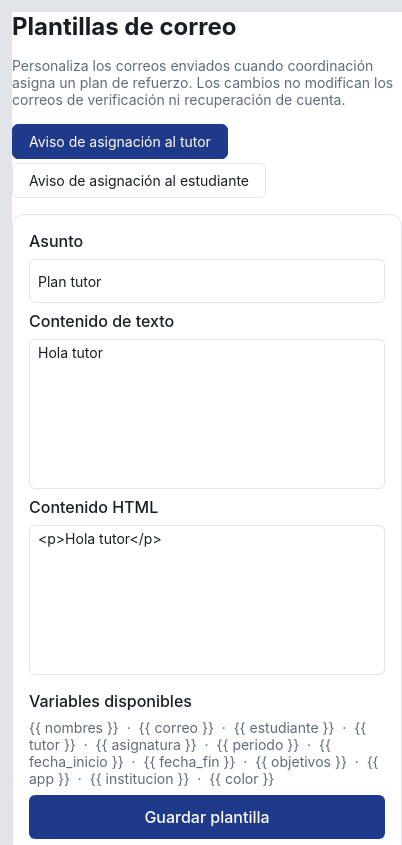
Test case: permite cambiar de plantilla y editar texto y HTML
The width and height of the screenshot is (402, 845).
expect the field showing "Plan tutor" is shown: met, box [29,259,385,303]
Click the button "Aviso de asignación al estudiante".
click(139, 180)  # box [12,163,266,198]
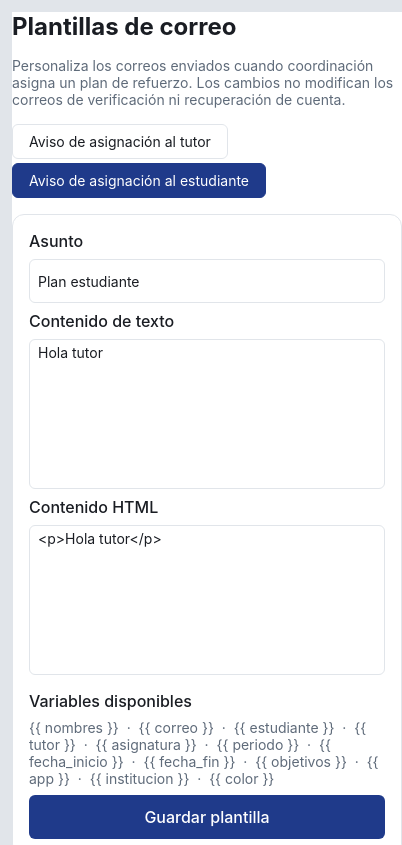
expect the field showing "Plan estudiante" is shown: met, box [29,259,385,303]
Replace the text in the text box named "Contenido de texto del correo" with "Texto nuevo" at (207, 414), box [29,339,385,489]
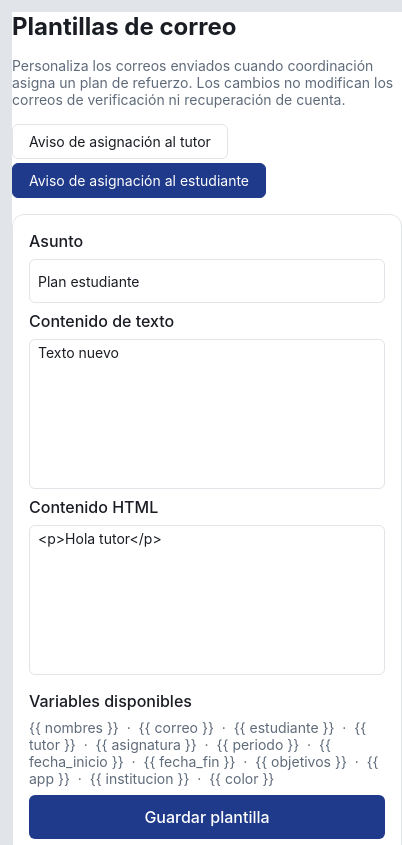
Replace the text in the text box named "Contenido HTML del correo" with "<b>Nuevo</b>" at (207, 600), box [29,525,385,675]
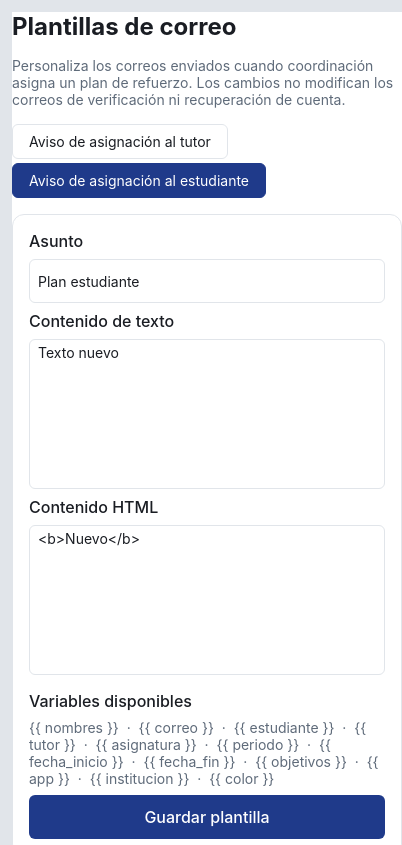
Click the button "Guardar plantilla".
click(207, 817)  # box [29,795,385,839]
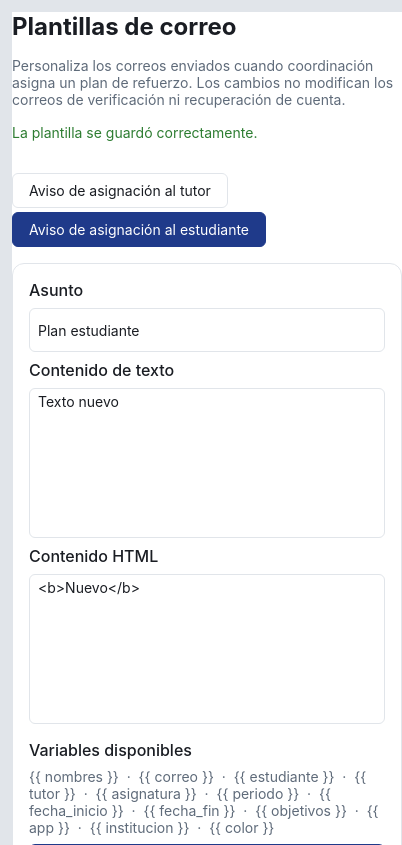
expect the text "La plantilla se guardó correctamente." is shown: met, box [12,124,258,141]
